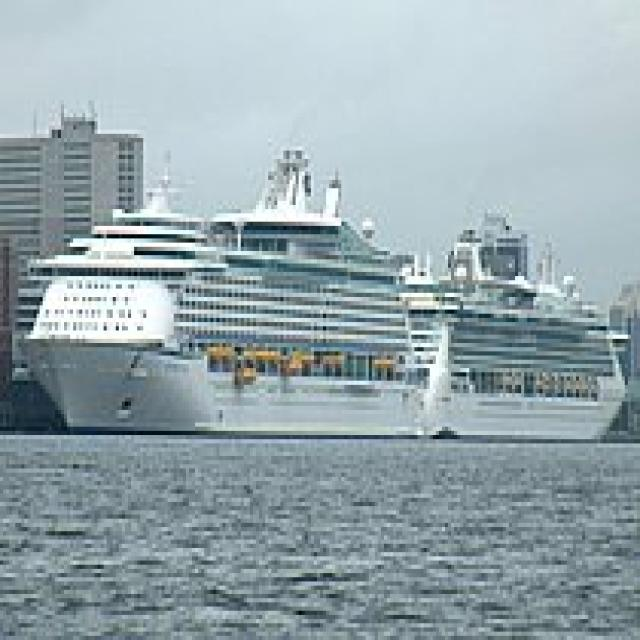Cruise: (12, 138, 418, 439), (390, 196, 631, 444)
